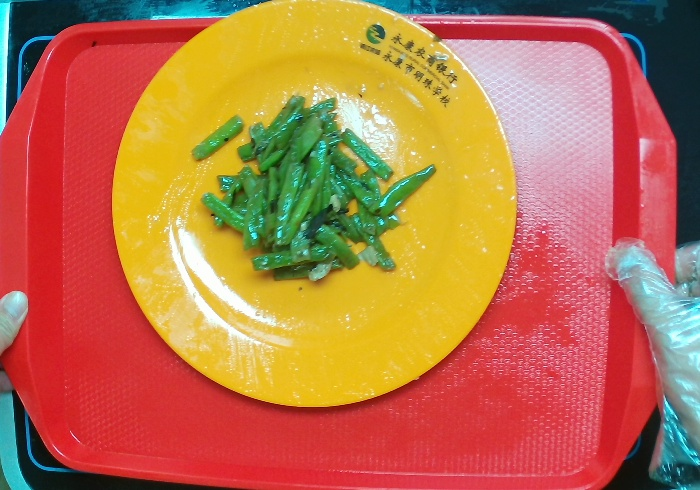YKMZ-Ju_Se_Mian_Pan: (108, 1, 523, 419)
